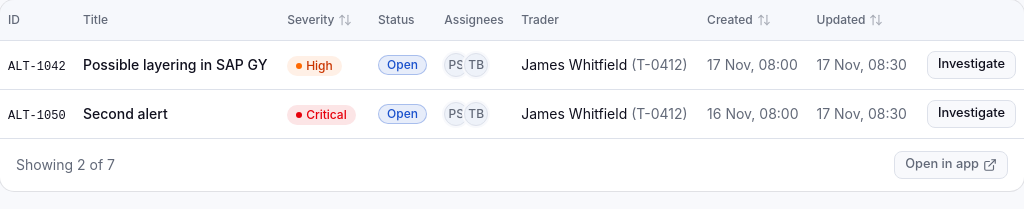
Test: AlertListView › sorts the returned items in place
Click the button "Severity": x=320, y=20 [279,8,360,32]
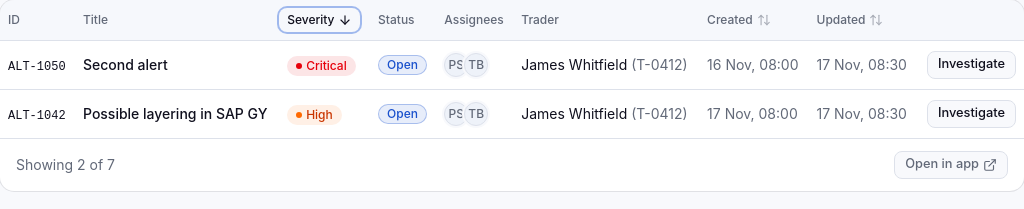
Expected: the text "Second alert" is shown, [83,56,168,72]
